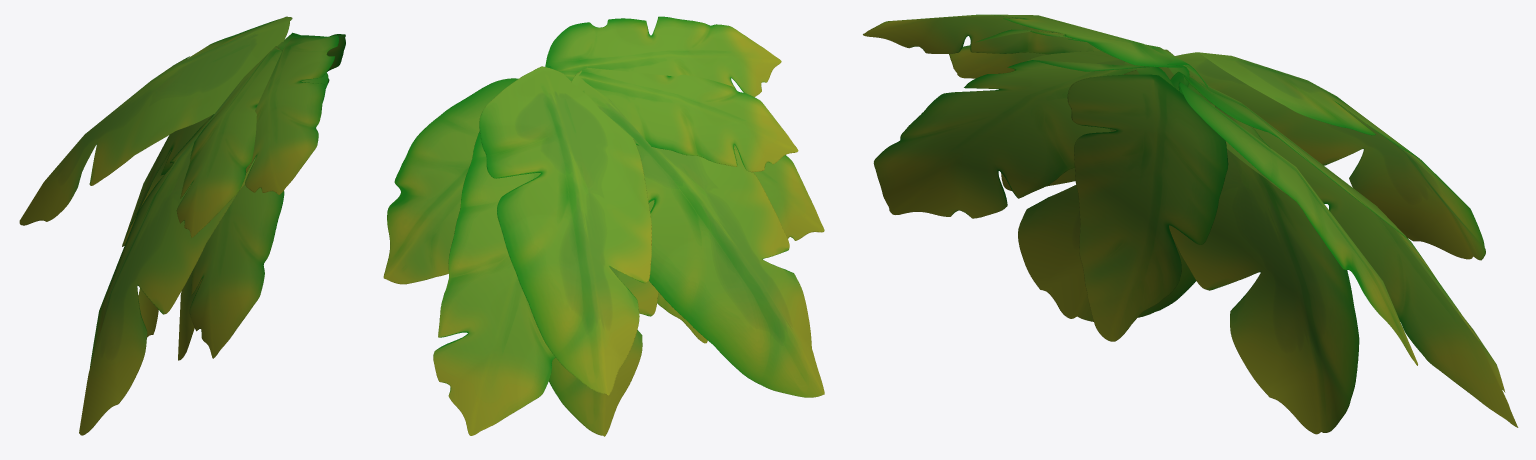
The model's file is Folliage_Palm03_02.fbx.
3 renders of one model, left to right at view 1: azimuth 30°, elevation 25°; view 2: azimuth 150°, elevation 25°; view 3: azimuth 270°, elevation 25°, orthographic. The views are drawn at different scales.
Visible parts, largest first — view 1: Folliage_Palm03_02; view 2: Folliage_Palm03_02; view 3: Folliage_Palm03_02.
Part boxes in pixels (x1,y1,x2,y2): Folliage_Palm03_02: [19, 16, 345, 435]; Folliage_Palm03_02: [383, 16, 824, 436]; Folliage_Palm03_02: [863, 14, 1518, 434].
Bounding box in the file's own units: 3.38 × 3.11 × 3.86.
